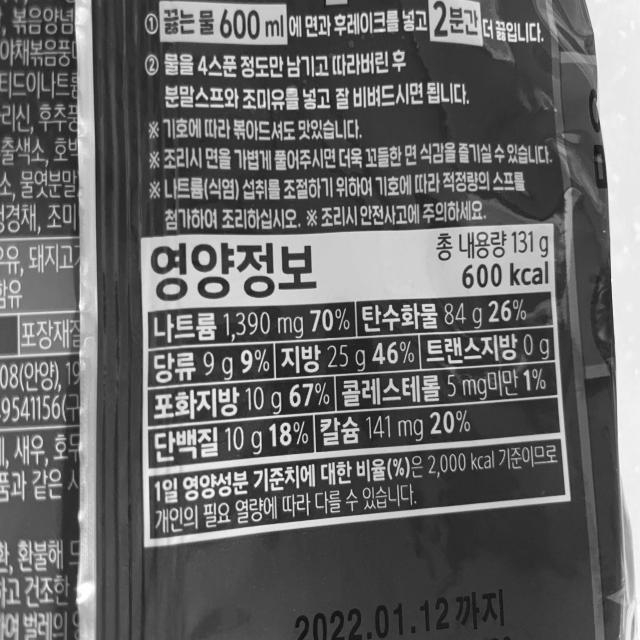Nutrition Label: (133, 223, 572, 534)
